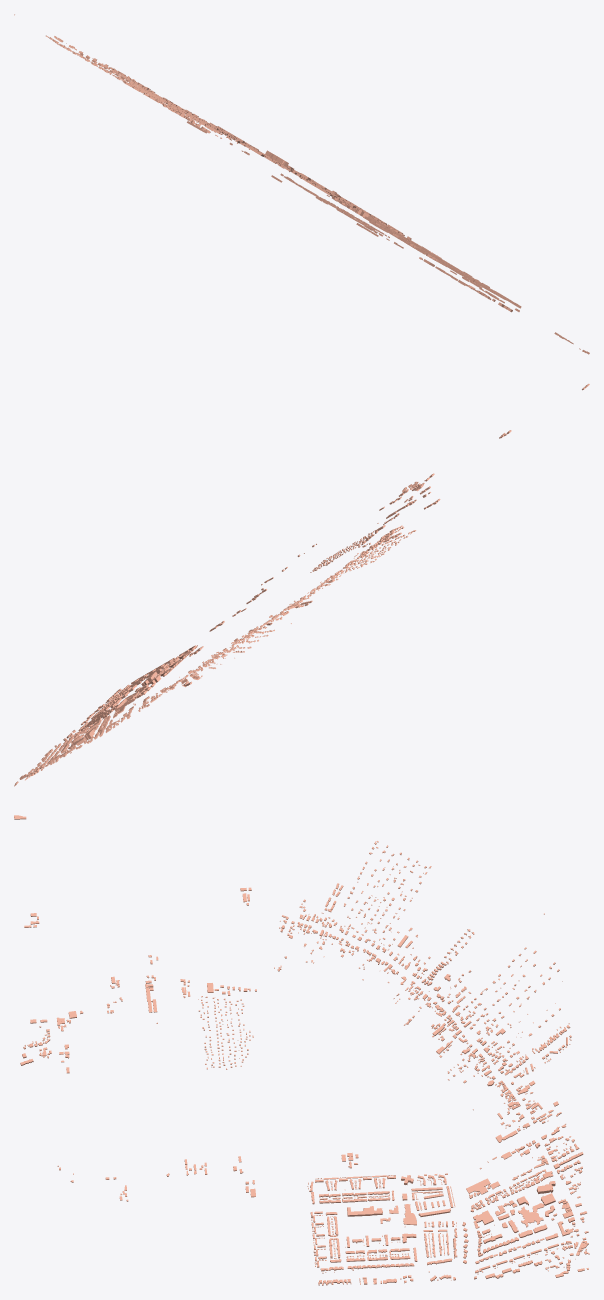
3 renders of one model, top to bottom at view 1: azimuth 30°, elevation 25°; view 2: azimuth 150°, elevation 25°; view 3: azimuth 270°, elevation 25°, orthographic. The views are drawn at different scales.
Size of the model in its own units: 1750 by 1441 by 2497.
